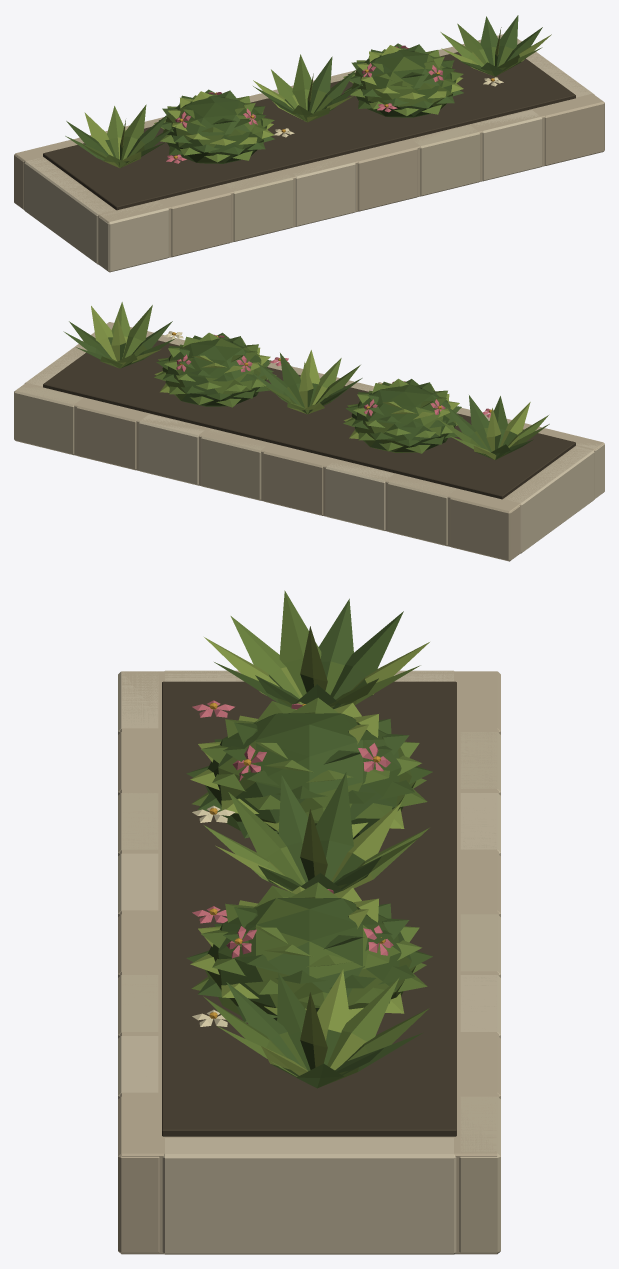
Rendered from flowerbed.glb.
3 views of the same model, one above another, from view 1: azimuth 30°, elevation 25°; view 2: azimuth 150°, elevation 25°; view 3: azimuth 270°, elevation 25° (orthographic). The views are drawn at different scales.
Parts seen in each view (by area): view 1: body; view 2: body; view 3: body.
Part boxes in pixels (x1=…): body: x1=14, y1=15, x2=604, y2=272; body: x1=14, y1=302, x2=604, y2=561; body: x1=118, y1=590, x2=500, y2=1254.
Size of the model in its own units: 3 by 0.6012 by 1.
